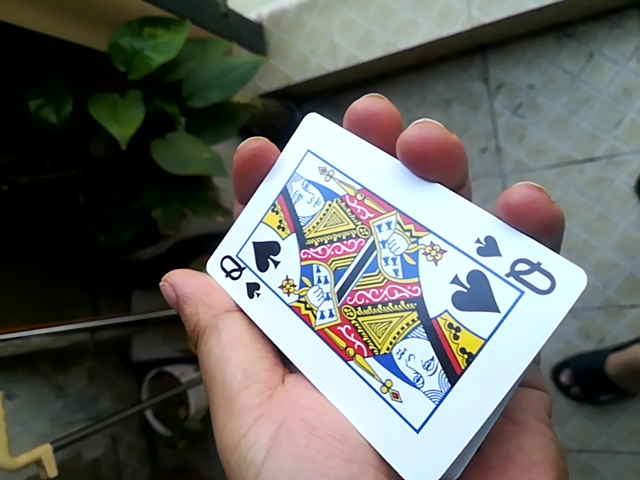ht q: (171, 91, 590, 478)
